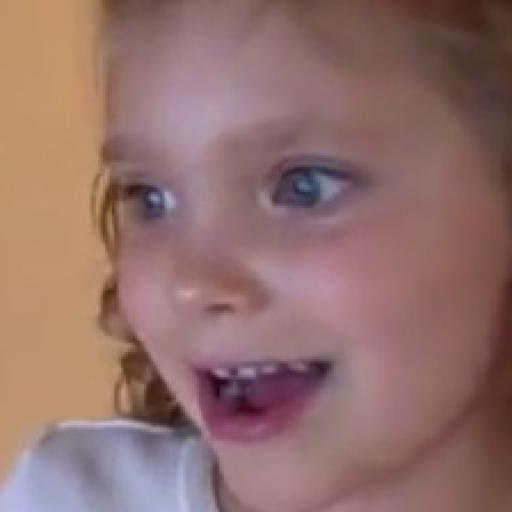Autism: (68, 10, 512, 512)
